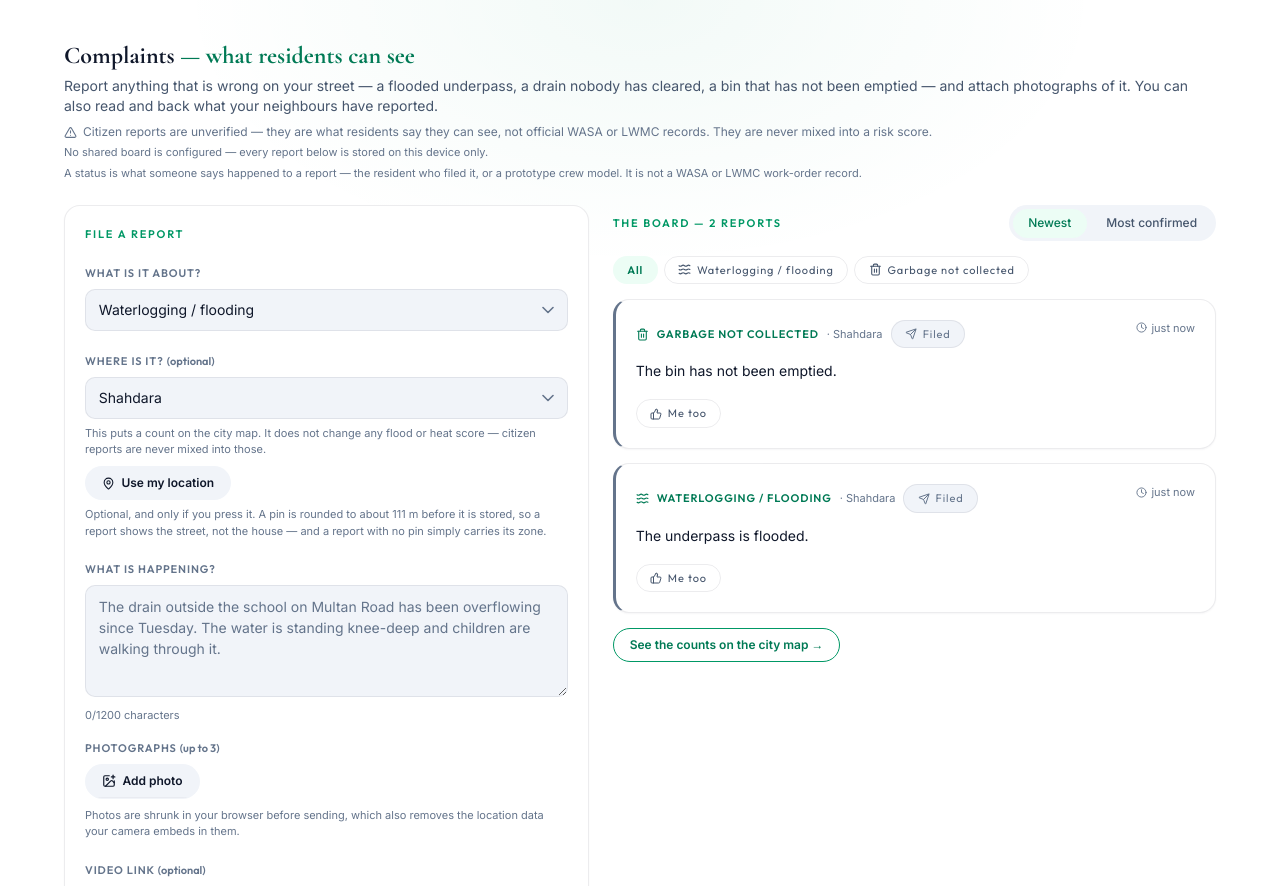
Scenario: ComplaintsView — the board › narrows the board to one category, and back
Click the button "Garbage not collected": [942, 270] box 854,256 -> 1029,284
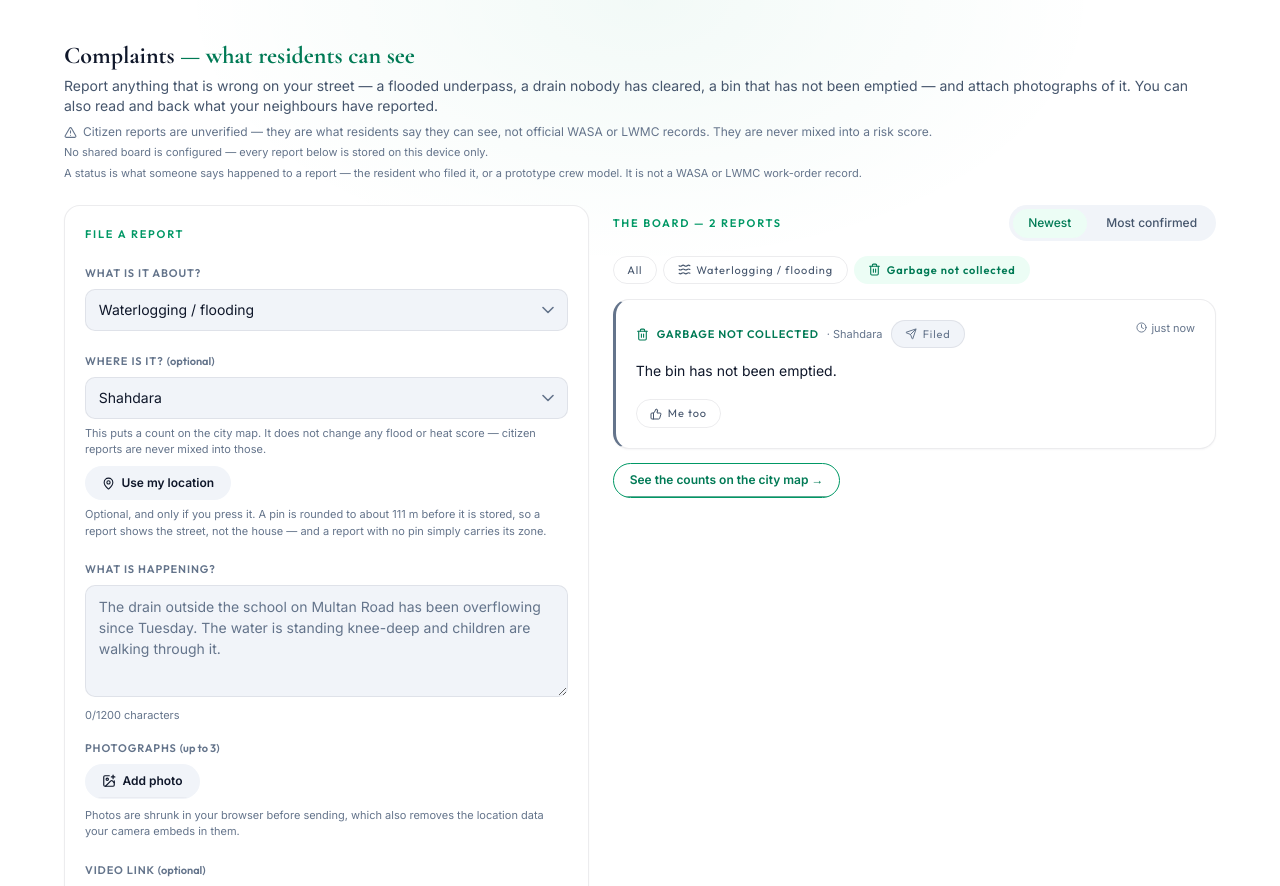
Expected: the text "The bin has not been emptied." is shown, 636,362 -> 837,379
Now the text "The underpass is flooded." is gone
Click the button "All": [635, 270] box 613,256 -> 657,284
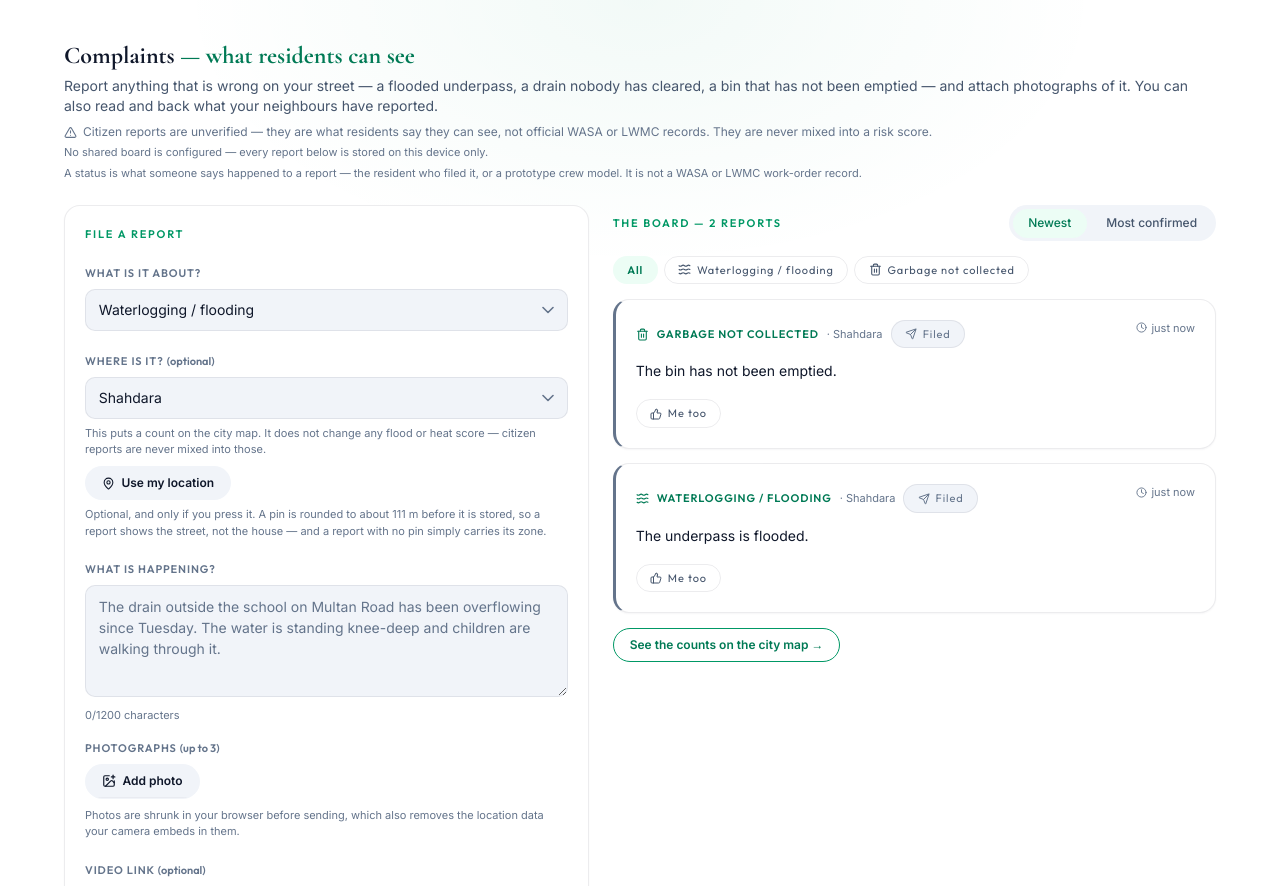
Now the text "The underpass is flooded." is shown, box 636,527 -> 808,544
